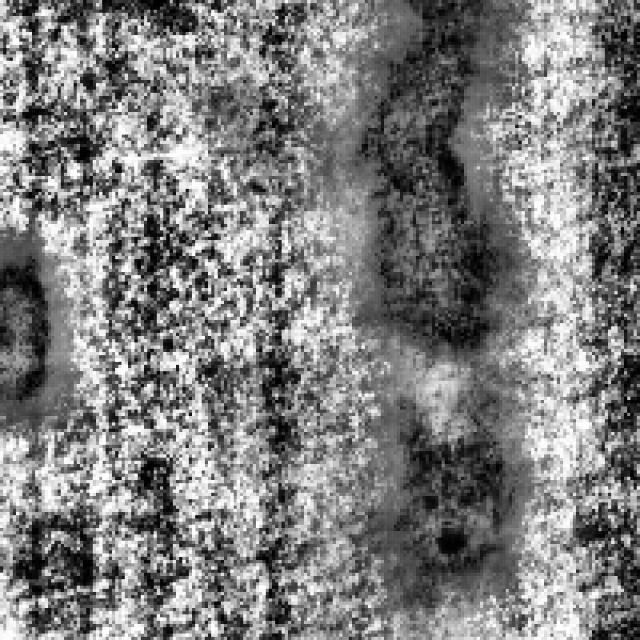Scratches: (346, 0, 508, 352), (381, 371, 518, 592), (0, 230, 64, 420)
